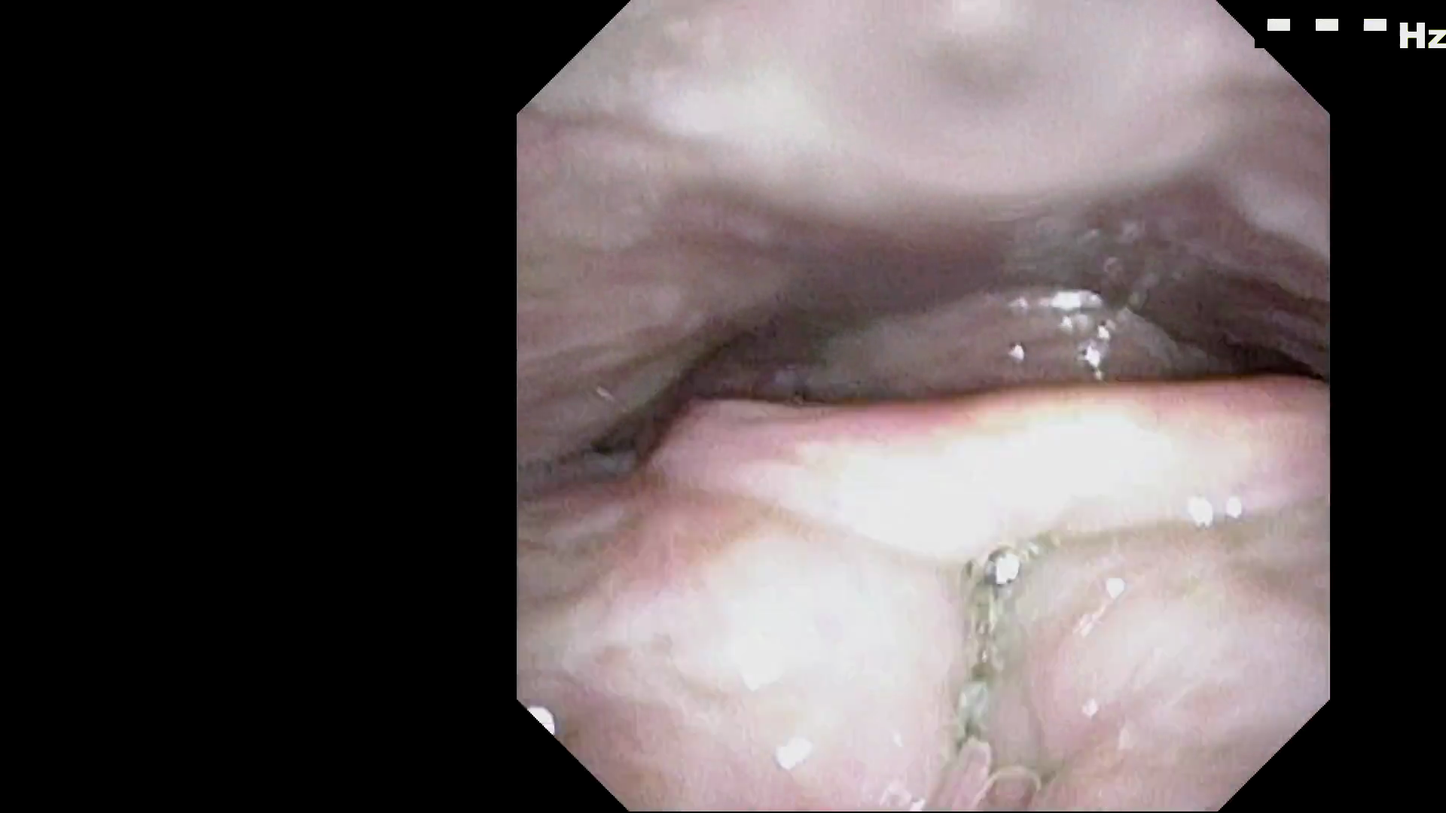epiglottis: (722, 482, 1271, 649)
